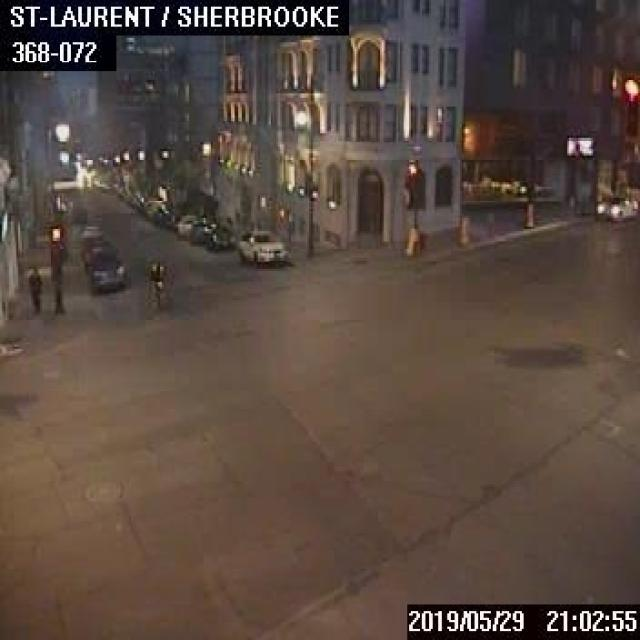construction: (457, 214, 467, 245), (522, 201, 533, 227)
cyclist: (146, 258, 163, 308)
pedestrian: (27, 265, 42, 311)
vehicle: (84, 246, 123, 292), (237, 229, 284, 265), (595, 189, 638, 220), (203, 222, 233, 249)
